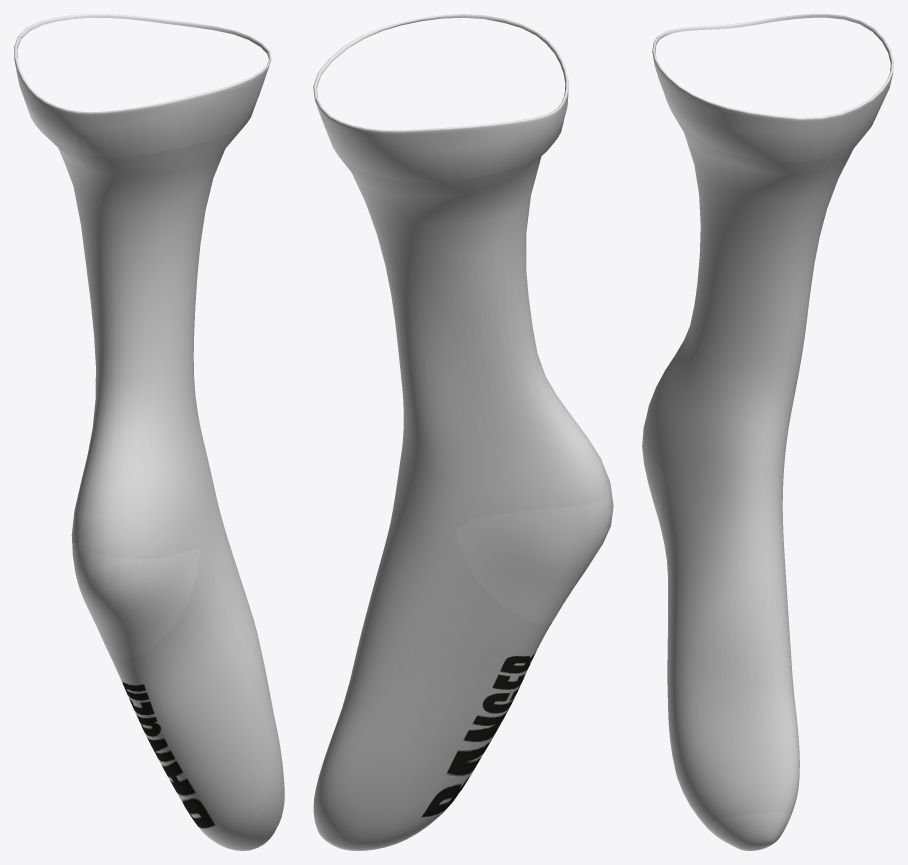
The model's file is SockMaster.gltf.
The picture shows the model from 3 angles, left to right: view 1: azimuth 30°, elevation 25°; view 2: azimuth 150°, elevation 25°; view 3: azimuth 270°, elevation 25°; orthographic projection. The views are drawn at different scales.
Parts seen in each view (by area): view 1: sock_1; view 2: sock_1; view 3: sock_1.
Boxes of the visible parts, box(x1,y1,x2,y2) form: sock_1: box(14, 14, 284, 850); sock_1: box(313, 14, 613, 850); sock_1: box(642, 14, 893, 850).
Size of the model in its own units: 23.92 by 77.08 by 23.32.
Materials: 1 (1 with a texture image).
